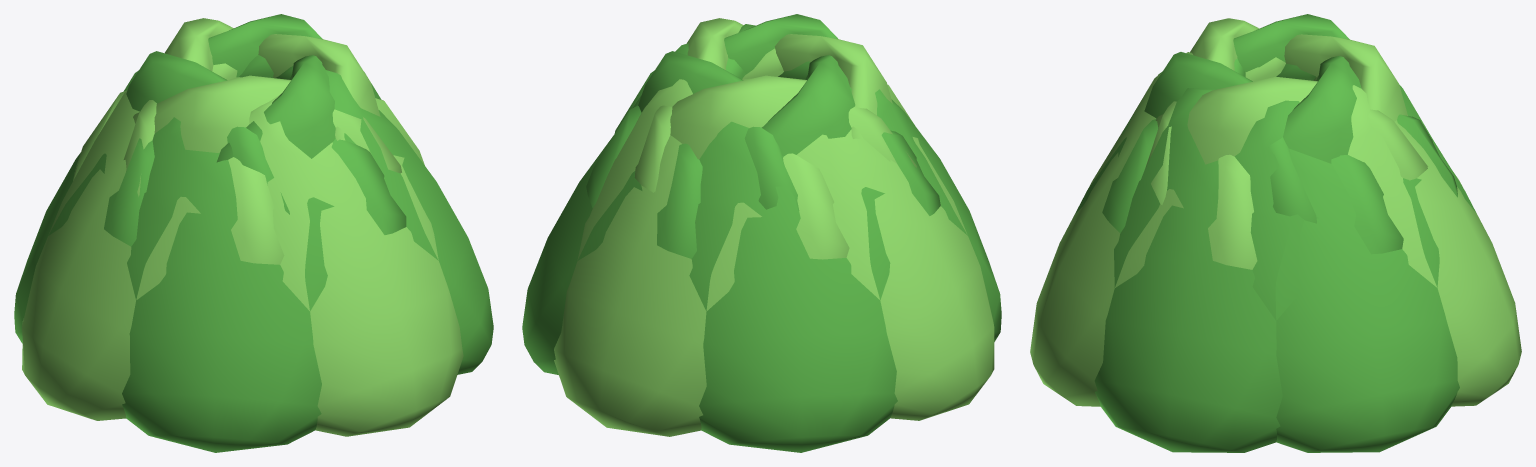
The model's file is alface.glb.
The picture shows the model from 3 angles, left to right: view 1: azimuth 30°, elevation 25°; view 2: azimuth 150°, elevation 25°; view 3: azimuth 270°, elevation 25°; orthographic projection.
Parts seen in each view (by area): view 1: alface; view 2: alface; view 3: alface.
Part boxes in pixels (box(x1,y1,x2,y2)): alface: box(14, 14, 493, 452); alface: box(522, 14, 1001, 452); alface: box(1030, 14, 1521, 452).
Bounding box in the file's own units: 0.2338 × 0.1656 × 0.2369.
